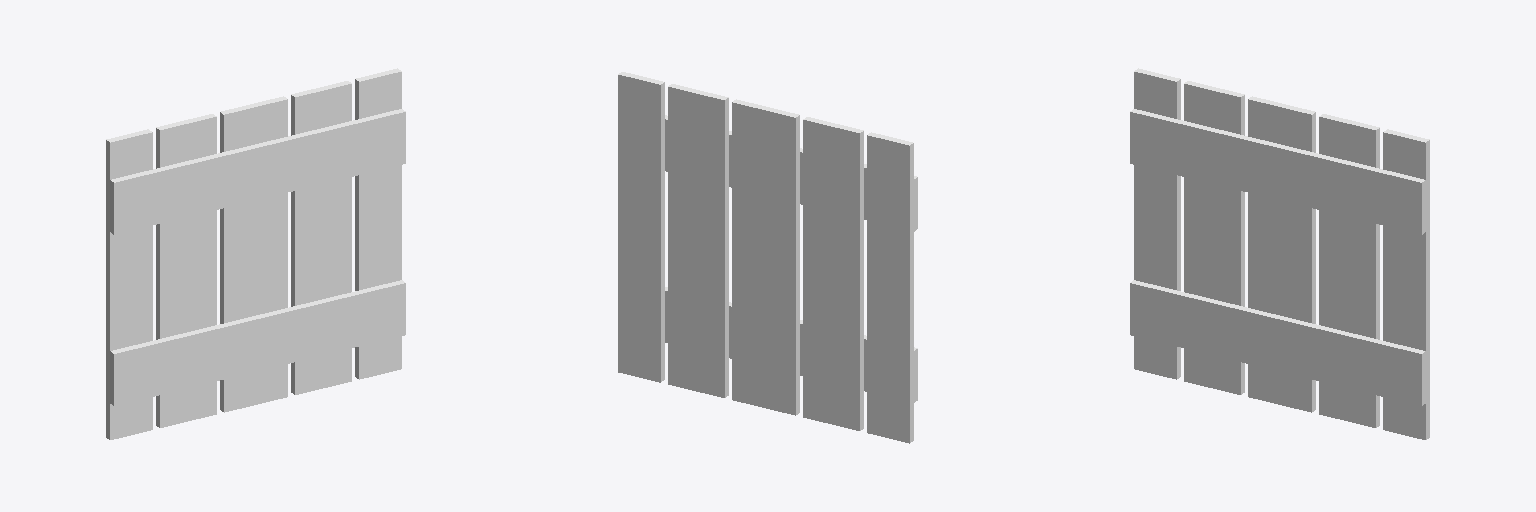
Rendered from MelochevkaCity-14.obj.
3 renders of one model, left to right at view 1: azimuth 30°, elevation 25°; view 2: azimuth 150°, elevation 25°; view 3: azimuth 330°, elevation 25°, orthographic.
Visible parts, largest first — view 1: object 1; view 2: object 1; view 3: object 1.
Boxes of the visible parts, <box> form: object 1: <box>106,68,405,439</box>; object 1: <box>618,72,917,443</box>; object 1: <box>1130,68,1429,439</box>.
Bounding box in the file's own units: 4.1 × 4 × 0.2.